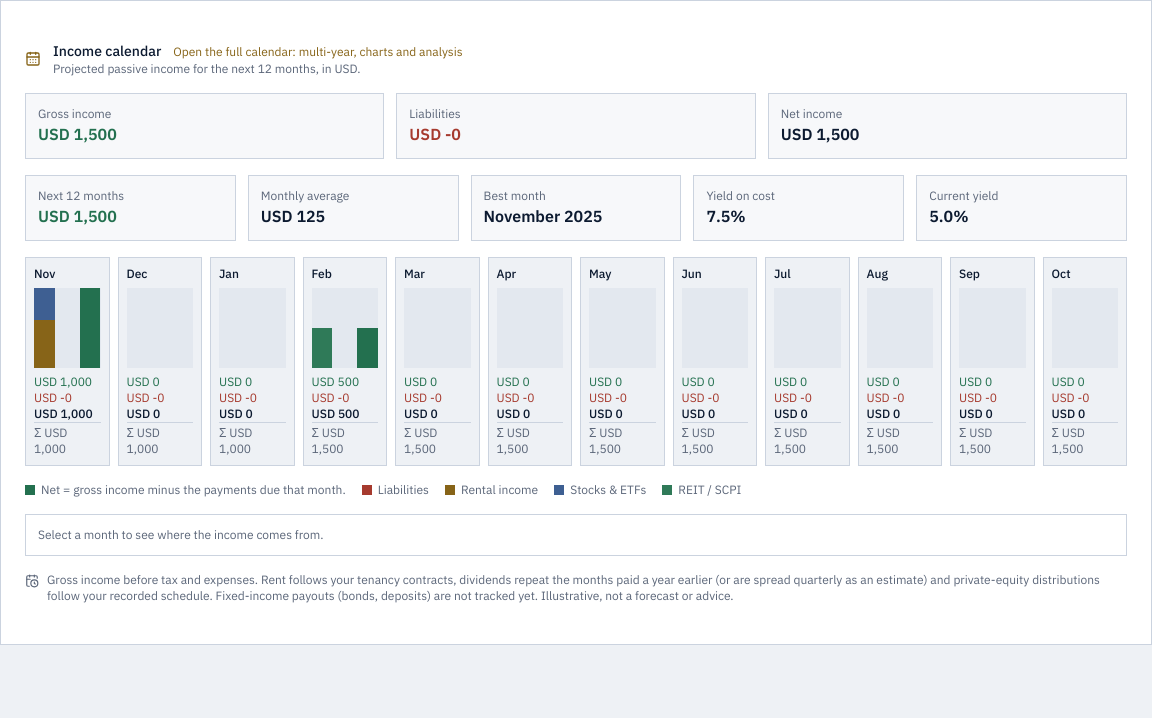
Test: IncomeCalendar › expands a month to its items and flags estimates
The width and height of the screenshot is (1152, 718).
Expected: the text "Flat" is not shown
Click the button "Nov USD 1,000 USD -0 USD 1,000 Σ USD 1,000" at (67, 362), box x1=25 y1=257 x2=110 y2=466
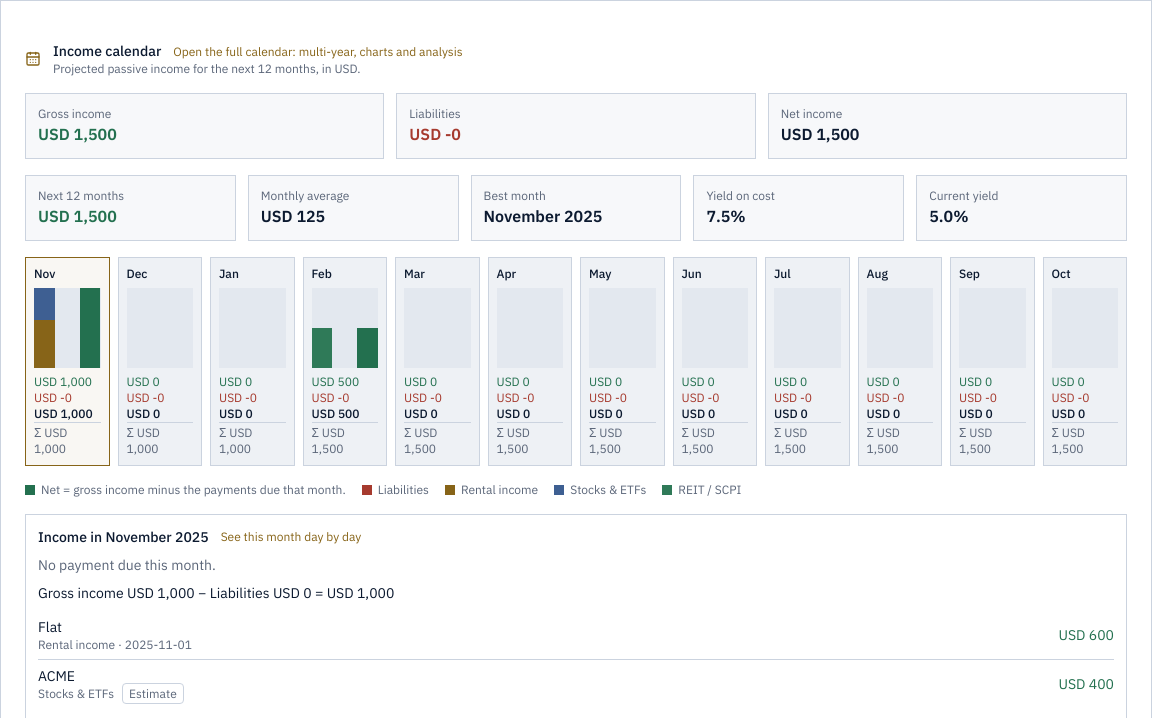
Now the text "Flat" is shown, box x1=38 y1=618 x2=62 y2=636
Now the text "ACME" is shown, box x1=38 y1=667 x2=75 y2=685
Now the text "Estimate" is shown once, box x1=122 y1=683 x2=184 y2=704
